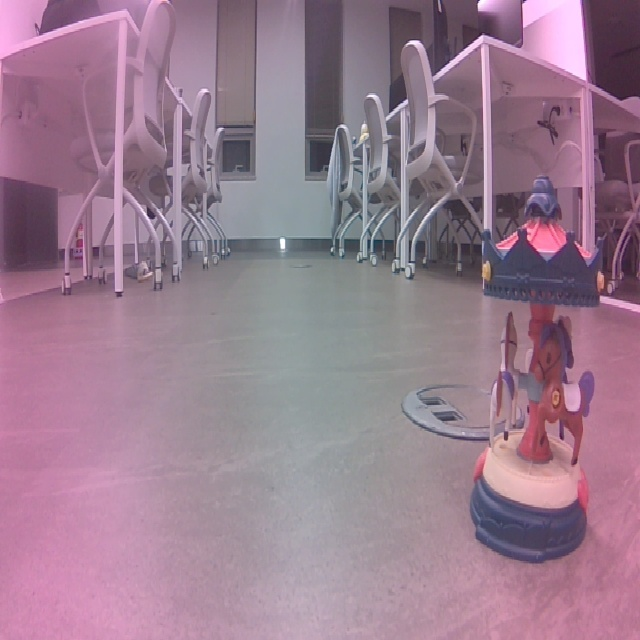목적지: (459, 163, 604, 574)
